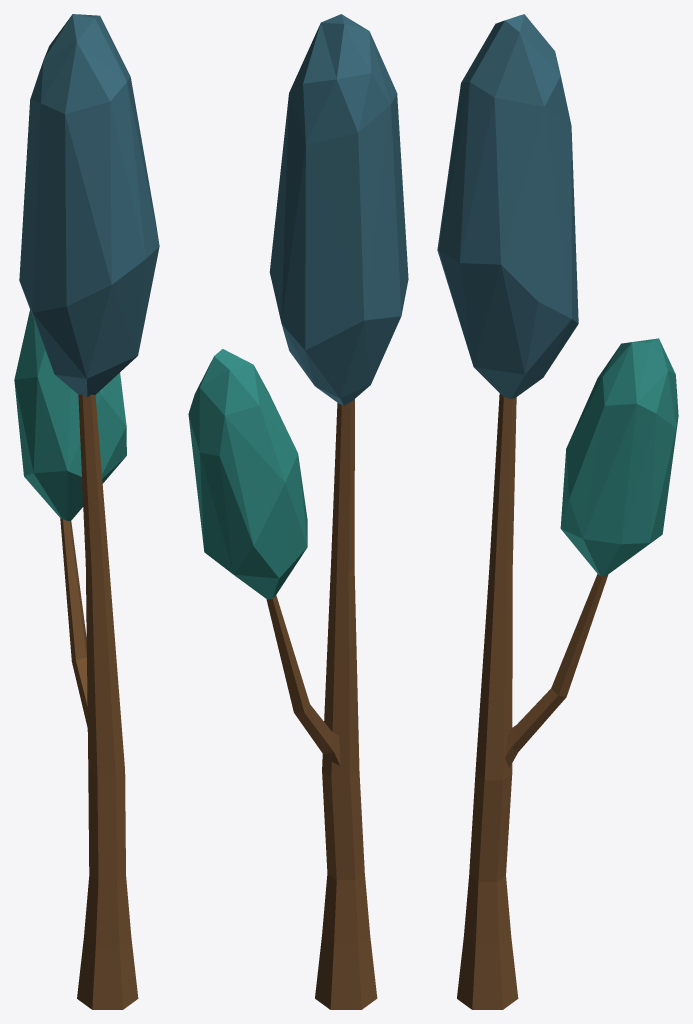
Rendered from Tree_Type8_1.fbx.
3 views of the same model, side by side, from view 1: azimuth 30°, elevation 25°; view 2: azimuth 150°, elevation 25°; view 3: azimuth 270°, elevation 25° (orthographic).
Parts seen in each view (by area): view 1: Tree_Type8_1; view 2: Tree_Type8_1; view 3: Tree_Type8_1.
Part boxes in pixels (x1=…): Tree_Type8_1: x1=14, y1=14, x2=159, y2=1009; Tree_Type8_1: x1=188, y1=14, x2=408, y2=1009; Tree_Type8_1: x1=437, y1=14, x2=678, y2=1009.
Size of the model in its own units: 113 by 758 by 170.
